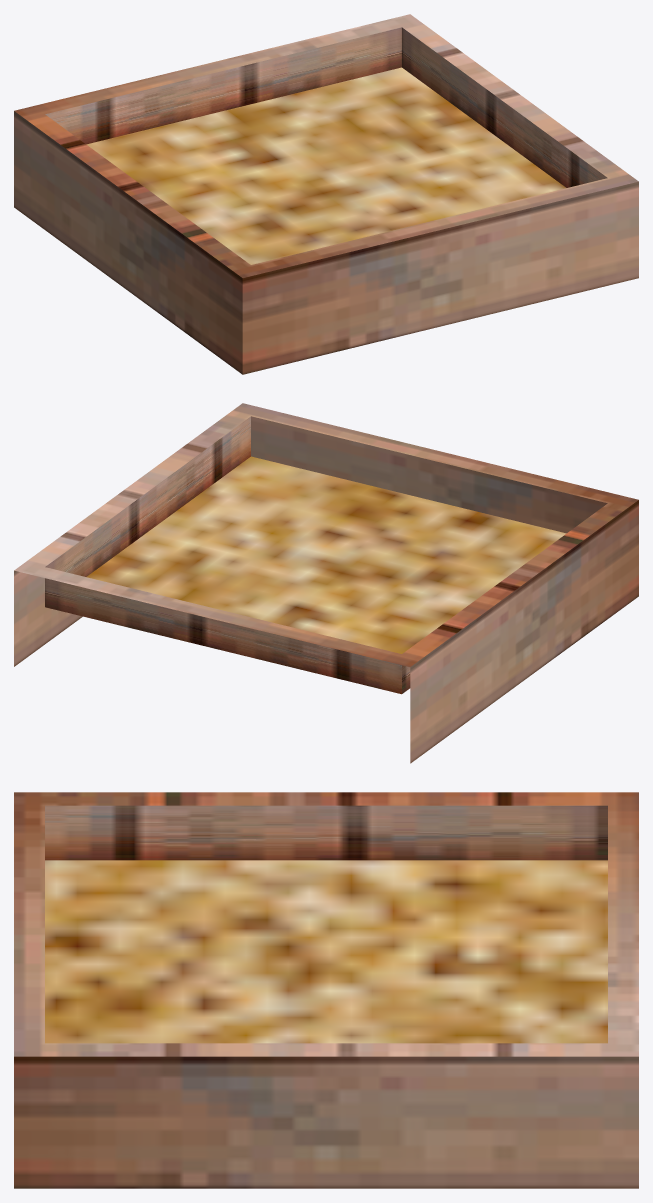
The model's file is WheatSpawner.fbx.
The picture shows the model from 3 angles, top to bottom: view 1: azimuth 30°, elevation 25°; view 2: azimuth 150°, elevation 25°; view 3: azimuth 270°, elevation 25°; orthographic projection. The views are drawn at different scales.
Parts seen in each view (by area): view 1: Tree; view 2: Tree; view 3: Tree.
Boxes of the visible parts, x1,y1,x2,y2 form: Tree: [14, 14, 638, 374]; Tree: [14, 403, 638, 763]; Tree: [14, 792, 638, 1188].
Bounding box in the file's own units: 200 × 46.58 × 200.
